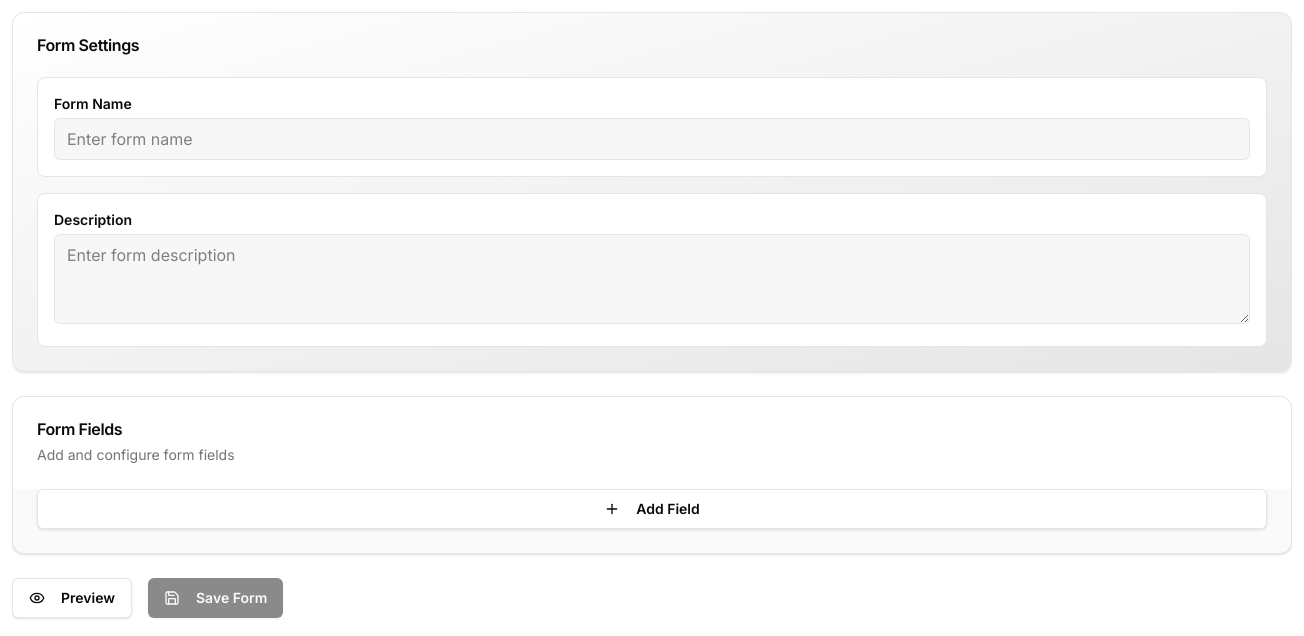
Test: FormBuilderUI › Preview Mode › switches to preview mode
What coordinates should you click on to do the following:
click the button "Preview"
I would click on:
 (72, 598)
Its box is left=12, top=578, right=132, bottom=618.
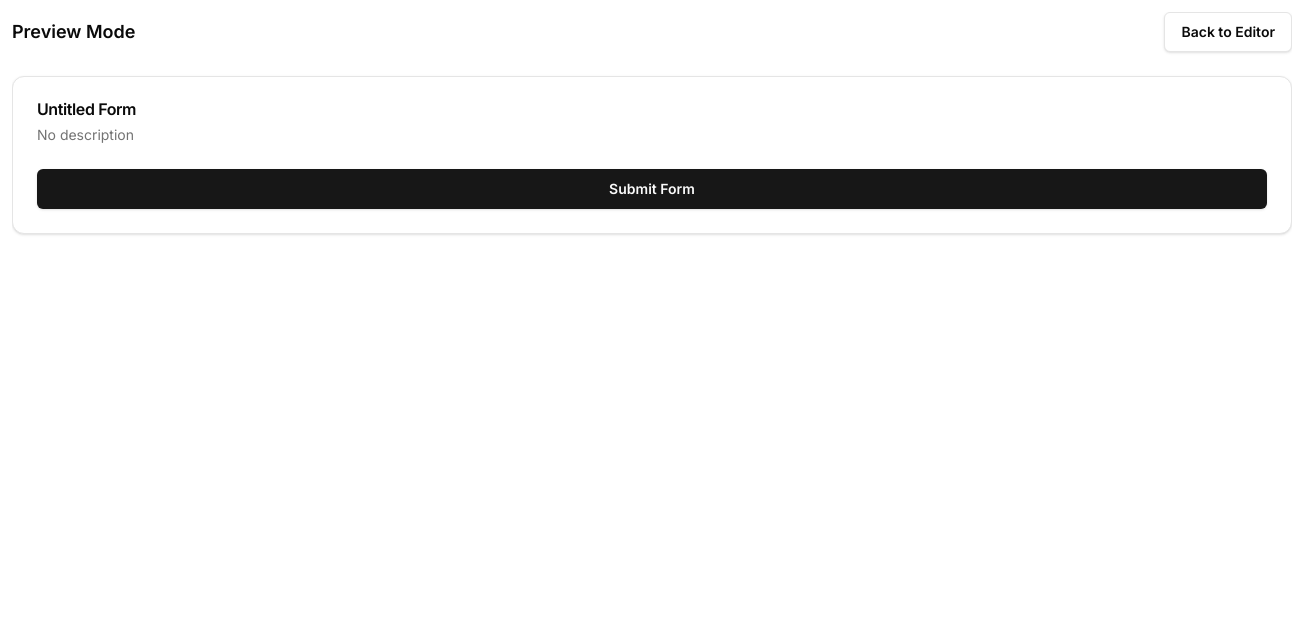
Now the heading "Preview Mode" is shown, box left=12, top=18, right=135, bottom=46
Now the button "Back to Editor" is shown, box left=1164, top=12, right=1292, bottom=52
